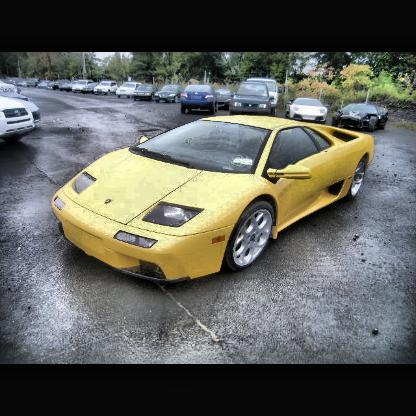Lamborghini Diablo Coupe 2001: (50, 115, 376, 292)
